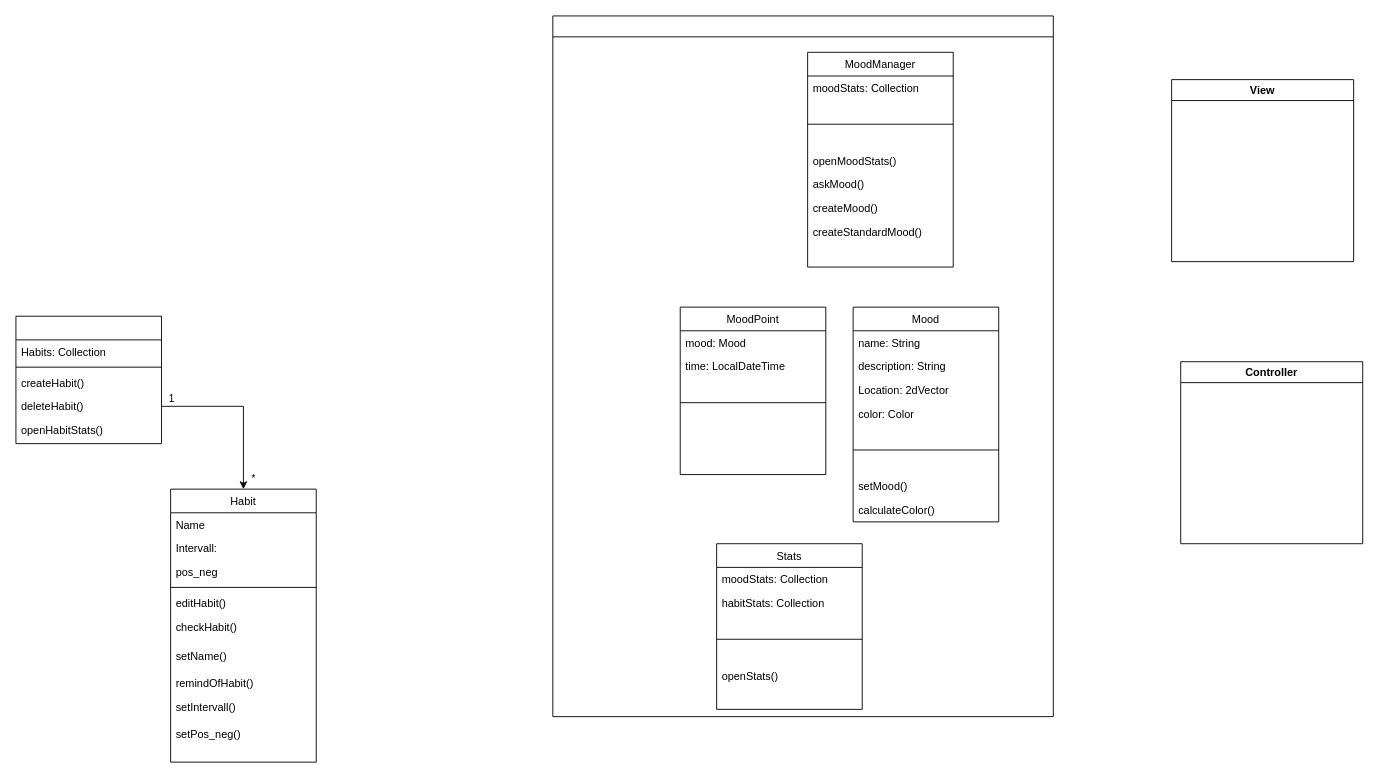
The diagram is 1379 pixels wide and 778 high, and some of its shapes have lost their labels. Here are the shapes that lost their labels. From the top down, the box of each, then its label:
(15, 315, 162, 444): HabitManager
(552, 15, 1053, 717): Model
